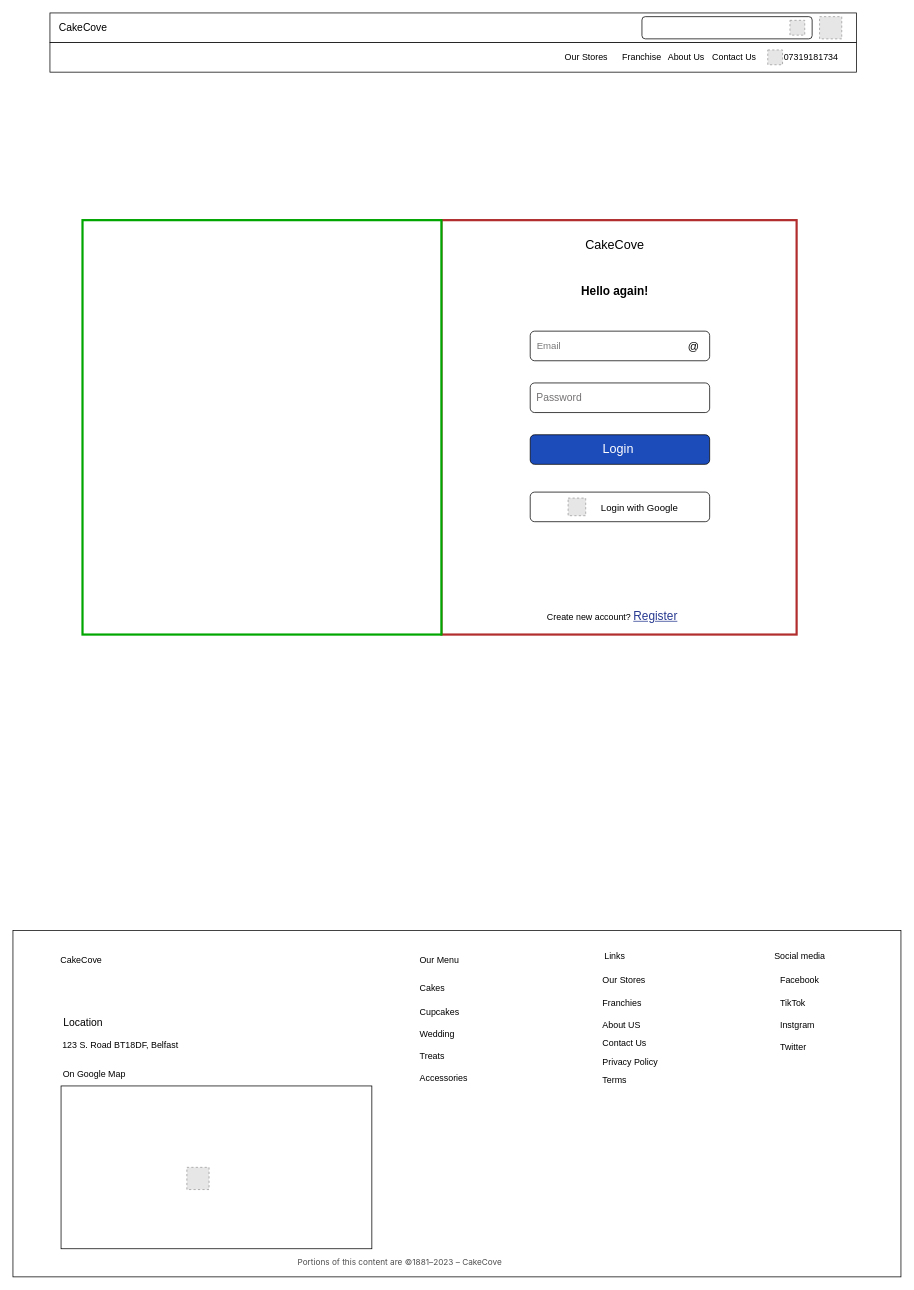
Some shapes in this 914 by 1290 pixel diagram are drawn without their labels. Grey dashed boxes stand in for pictures. The shapes that lost their labels are listed below. From the top down, each one's box as (x1, y1, x2, y2) in pixels, then its label:
(641, 16, 812, 39): search ...
(81, 219, 442, 635): Image
